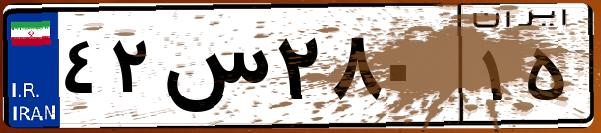0: (385, 28, 445, 110)
1: (475, 38, 525, 113)
2: (270, 28, 330, 110), (110, 28, 158, 98)
4: (57, 26, 110, 100)
5: (525, 38, 570, 115)
8: (330, 28, 385, 110)
س: (158, 20, 270, 120)
